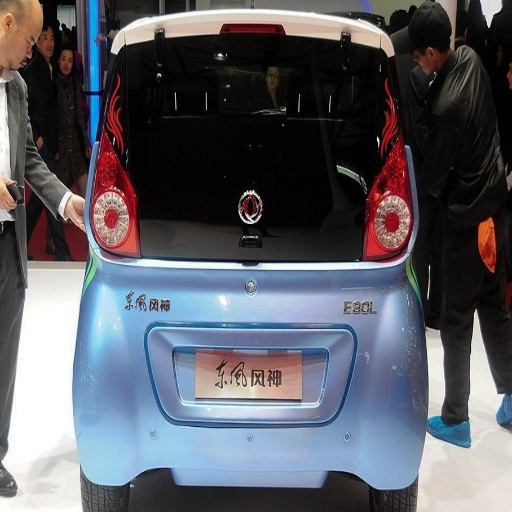back_bumper: (72, 250, 416, 505), (385, 260, 412, 332)
back_right_light: (368, 153, 413, 260)
tailgate: (167, 341, 326, 420)
trunk: (123, 143, 380, 420)
